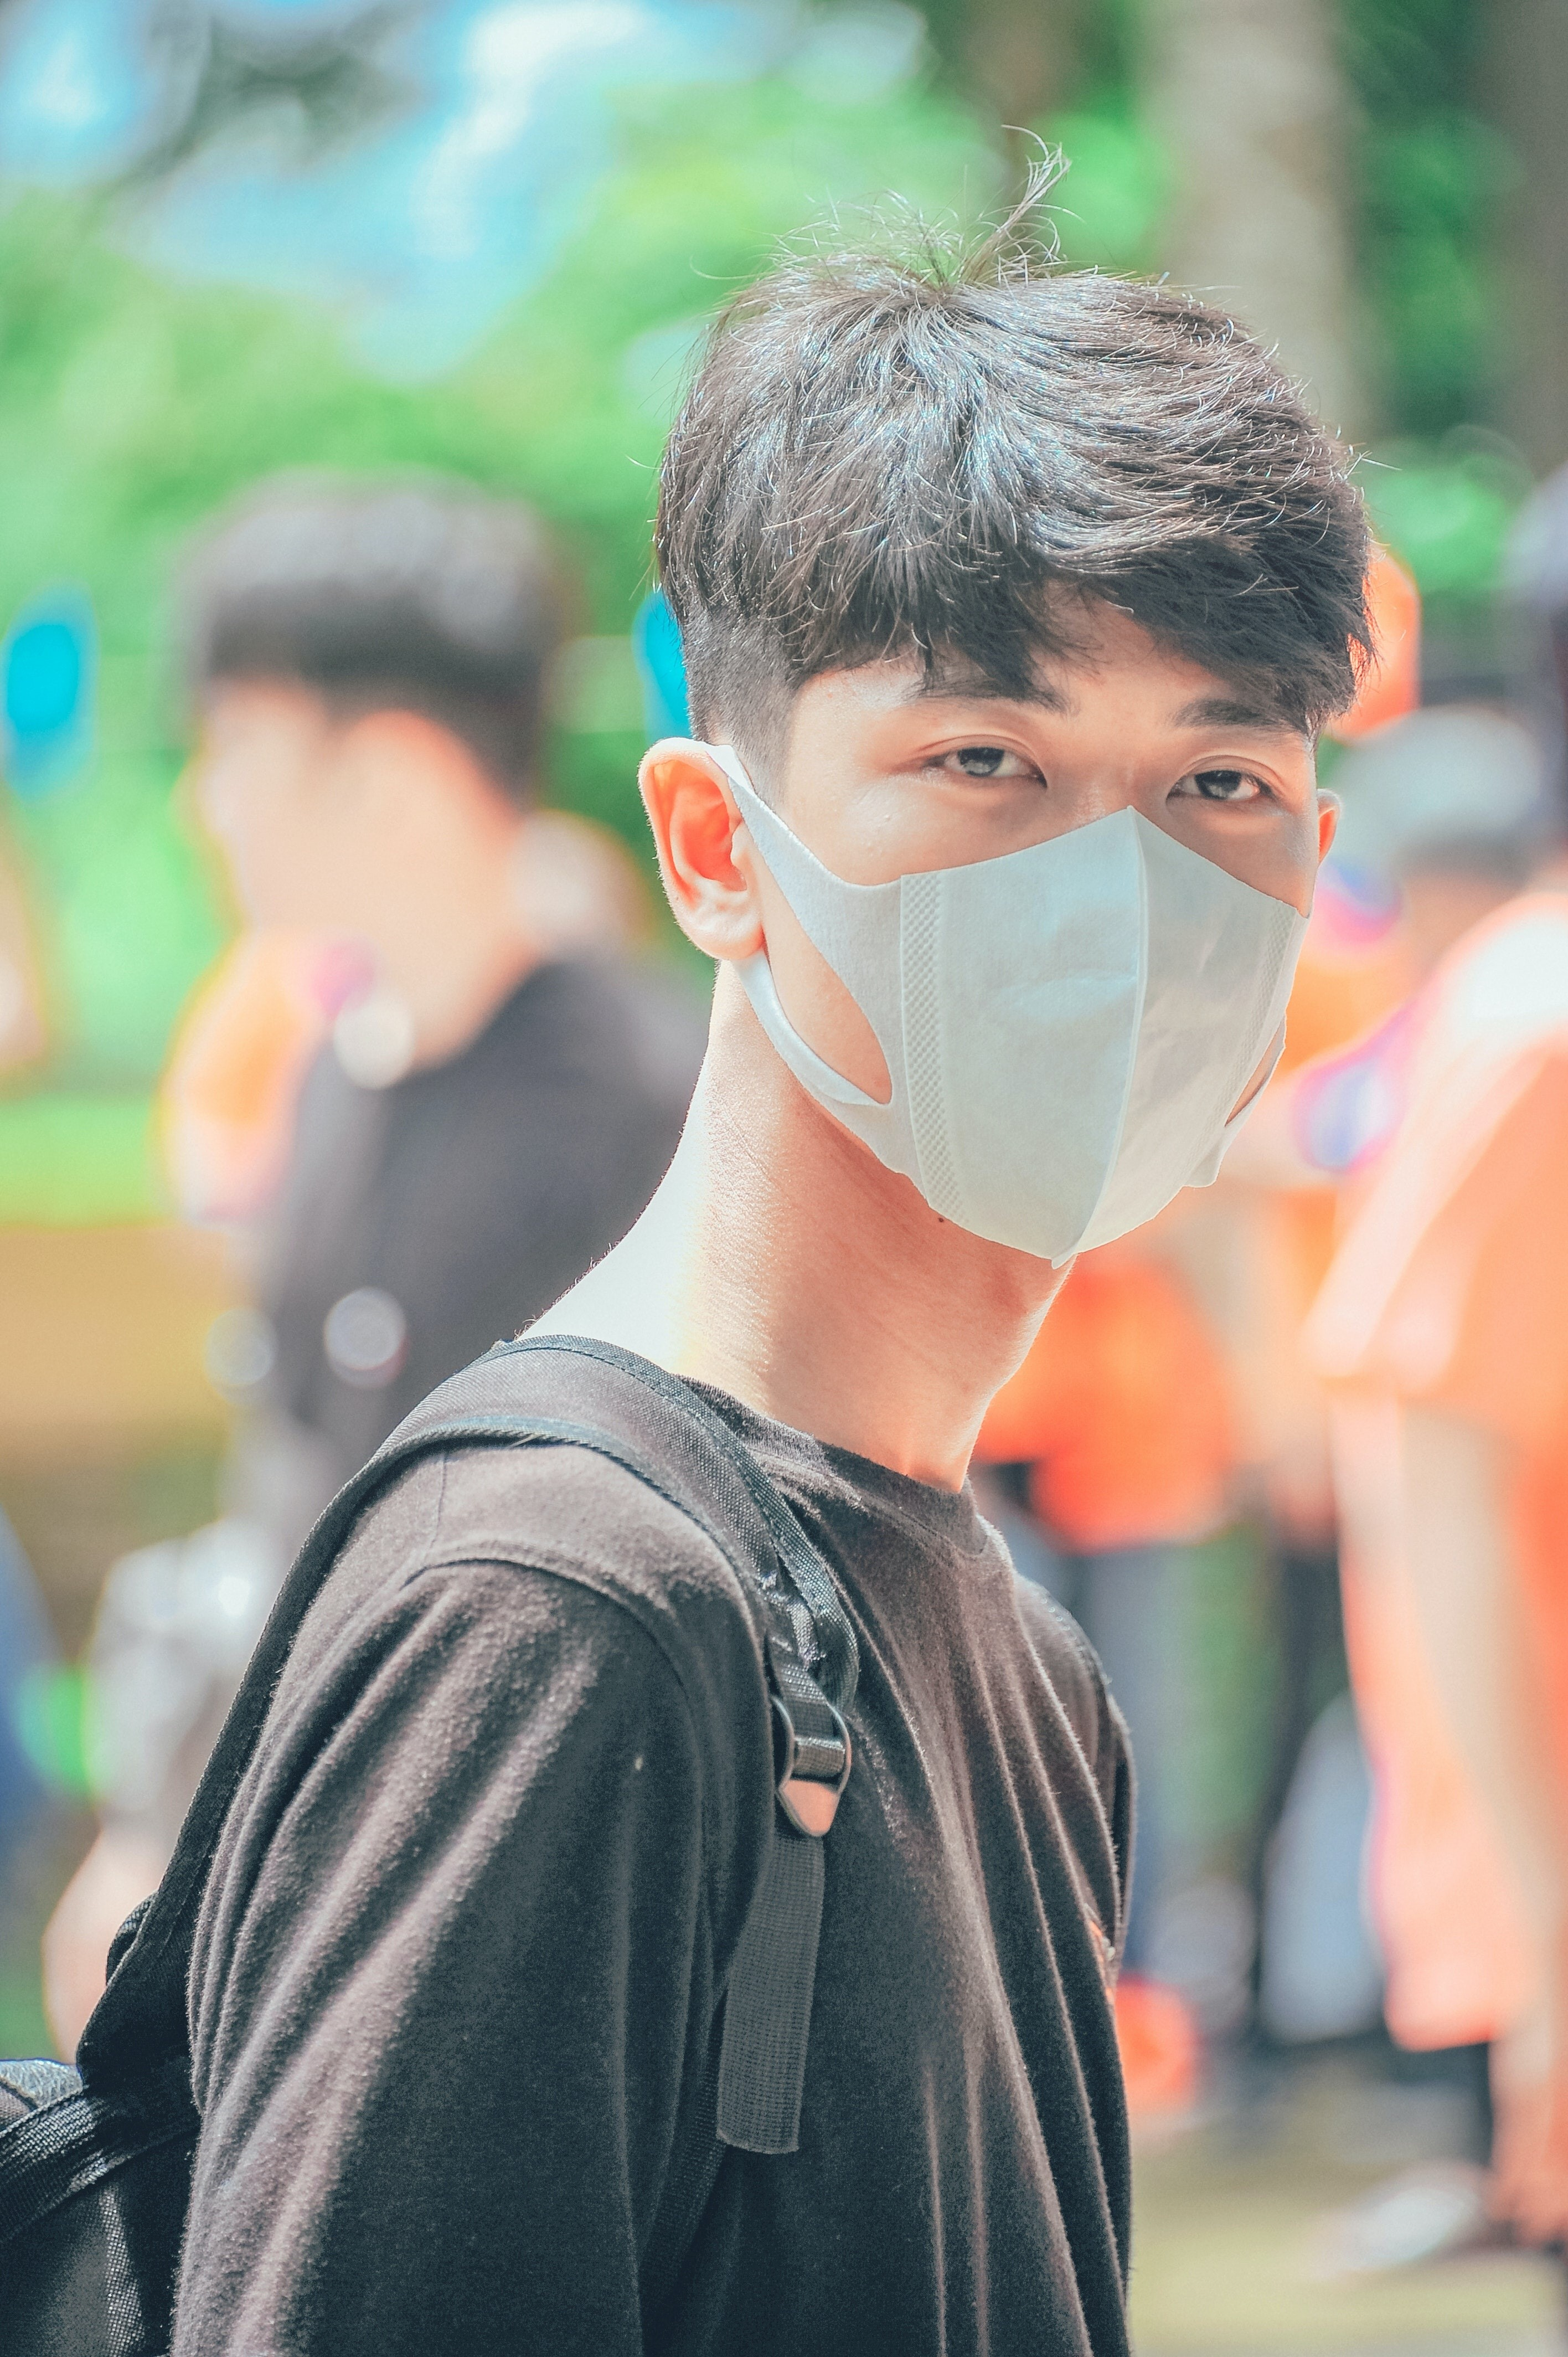face_with_mask: (612, 514, 1374, 1328)
